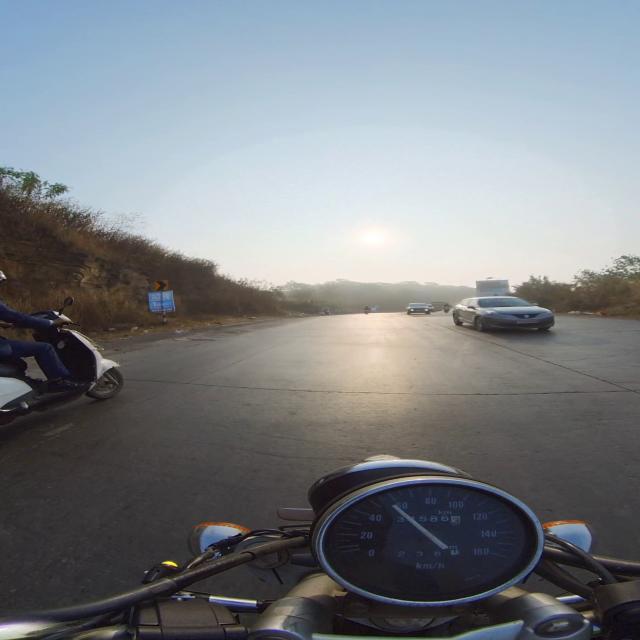car: (453, 297, 554, 330), (407, 303, 434, 314)
motorcycle: (0, 456, 639, 639), (0, 326, 123, 424)
